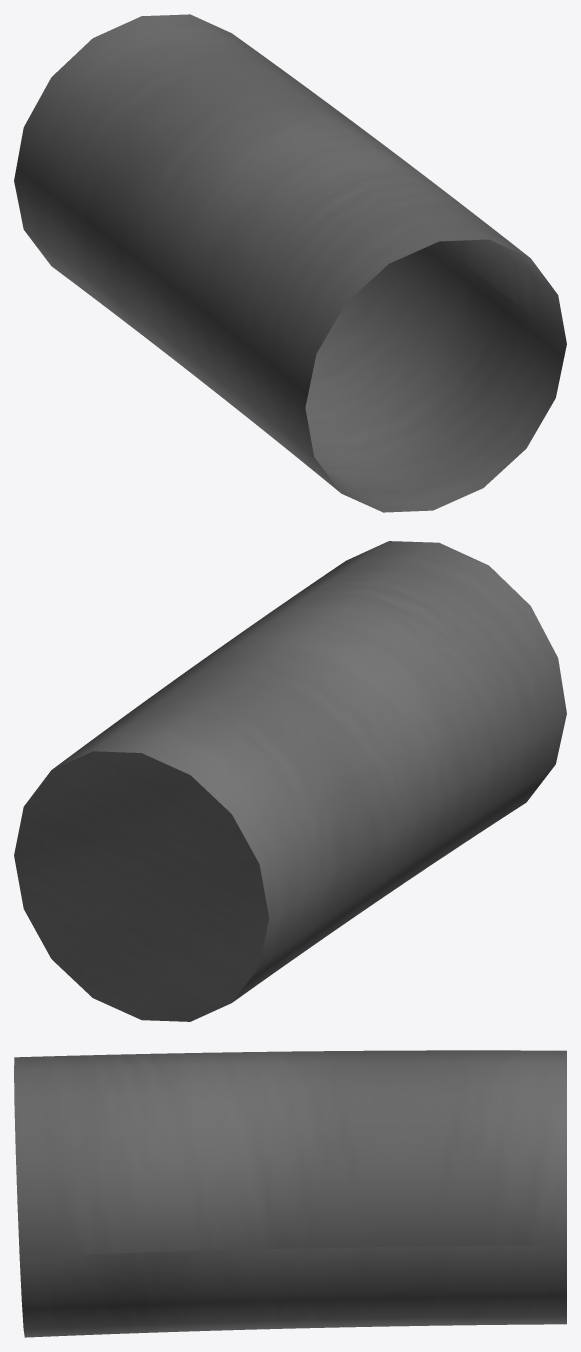
Rendered from mastarmcurve_10x2_c11.obj.
The picture shows the model from 3 angles, top to bottom: view 1: azimuth 30°, elevation 25°; view 2: azimuth 150°, elevation 25°; view 3: azimuth 270°, elevation 25°; orthographic projection. The views are drawn at different scales.
Visible parts, largest first — view 1: mastarm_10x2_c11; view 2: mastarm_10x2_c11; view 3: mastarm_10x2_c11.
Part boxes in pixels (x1,y1,x2,y2): mastarm_10x2_c11: (14, 14, 566, 512); mastarm_10x2_c11: (14, 541, 566, 1021); mastarm_10x2_c11: (14, 1050, 566, 1337).
Size of the model in its own units: 0.5125 by 0.5265 by 1.01.
